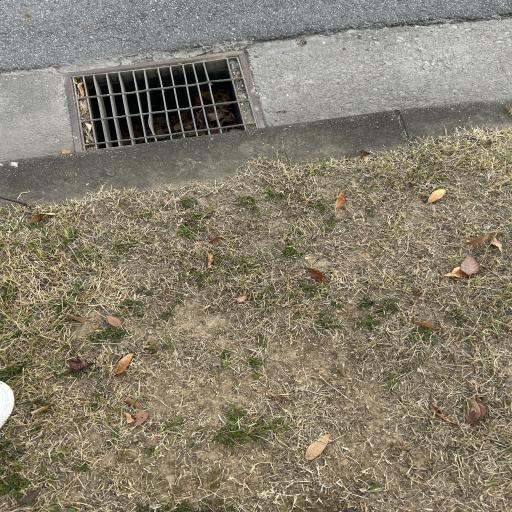debris: (218, 106, 236, 125), (181, 110, 195, 130), (83, 121, 95, 144), (195, 109, 207, 129), (206, 107, 218, 126), (155, 117, 168, 134), (79, 99, 90, 119), (214, 90, 231, 102), (171, 117, 182, 132), (76, 78, 85, 96), (203, 90, 212, 104), (195, 94, 201, 105)
drain: (64, 50, 265, 152)
